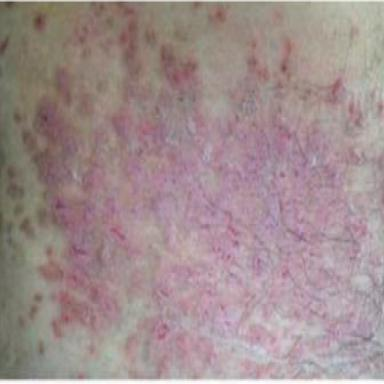Darier_s-Disease: (3, 2, 383, 378)
